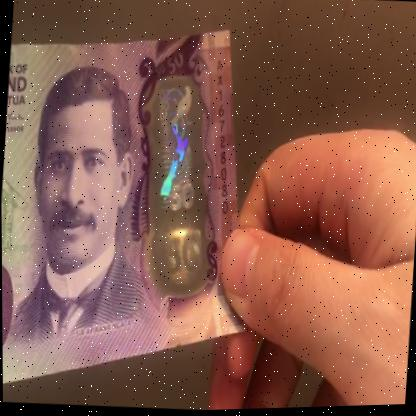50F: (144, 79, 213, 287)
